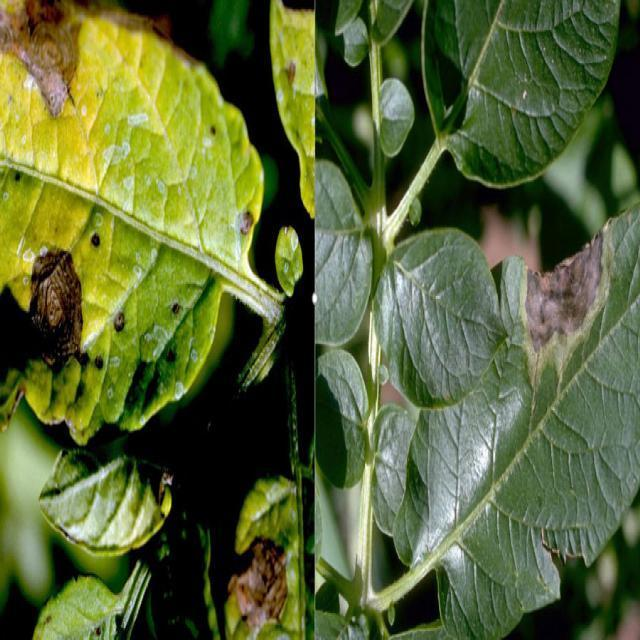Healthy Leaf: (377, 221, 507, 405)
